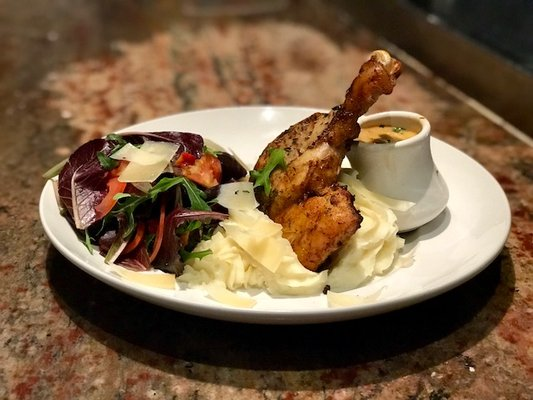soup: (51, 131, 247, 278)
